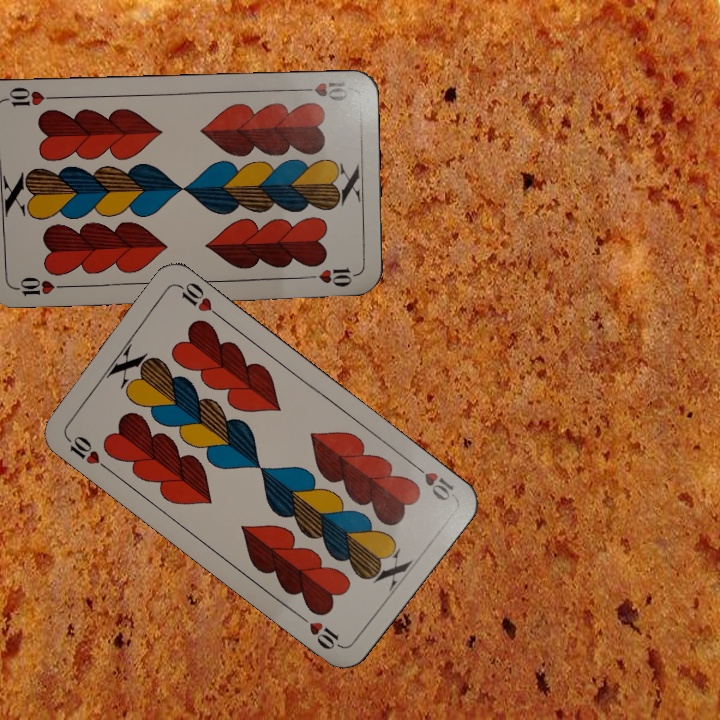H10: (407, 458, 457, 504), (61, 432, 112, 473), (293, 77, 350, 104), (8, 273, 67, 299)
